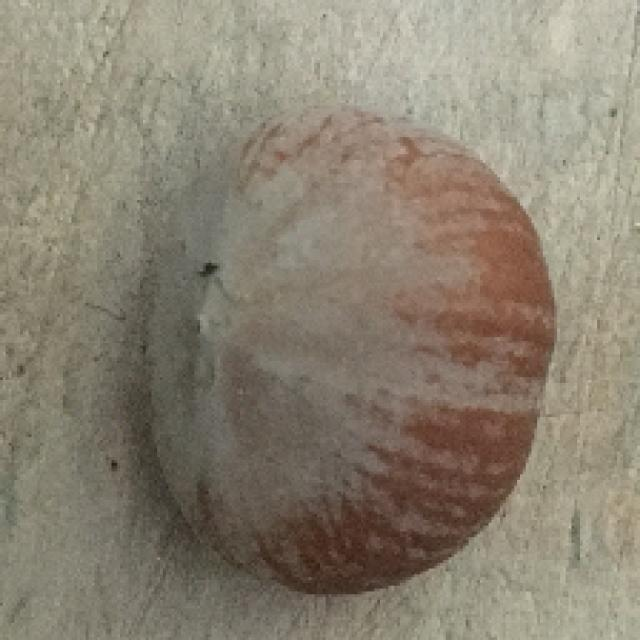qualityHazelnut: (143, 108, 558, 599)
